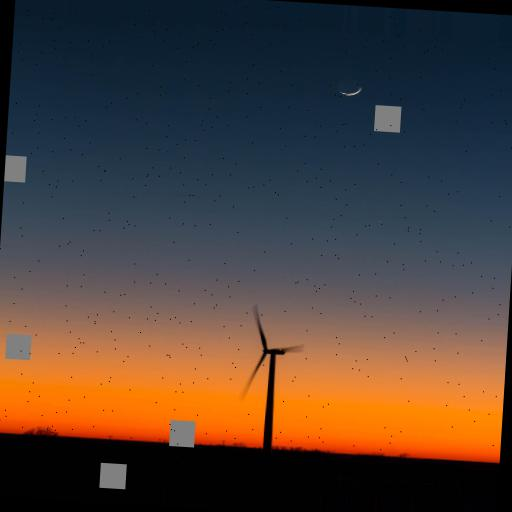wind turbine: (241, 304, 305, 454)
